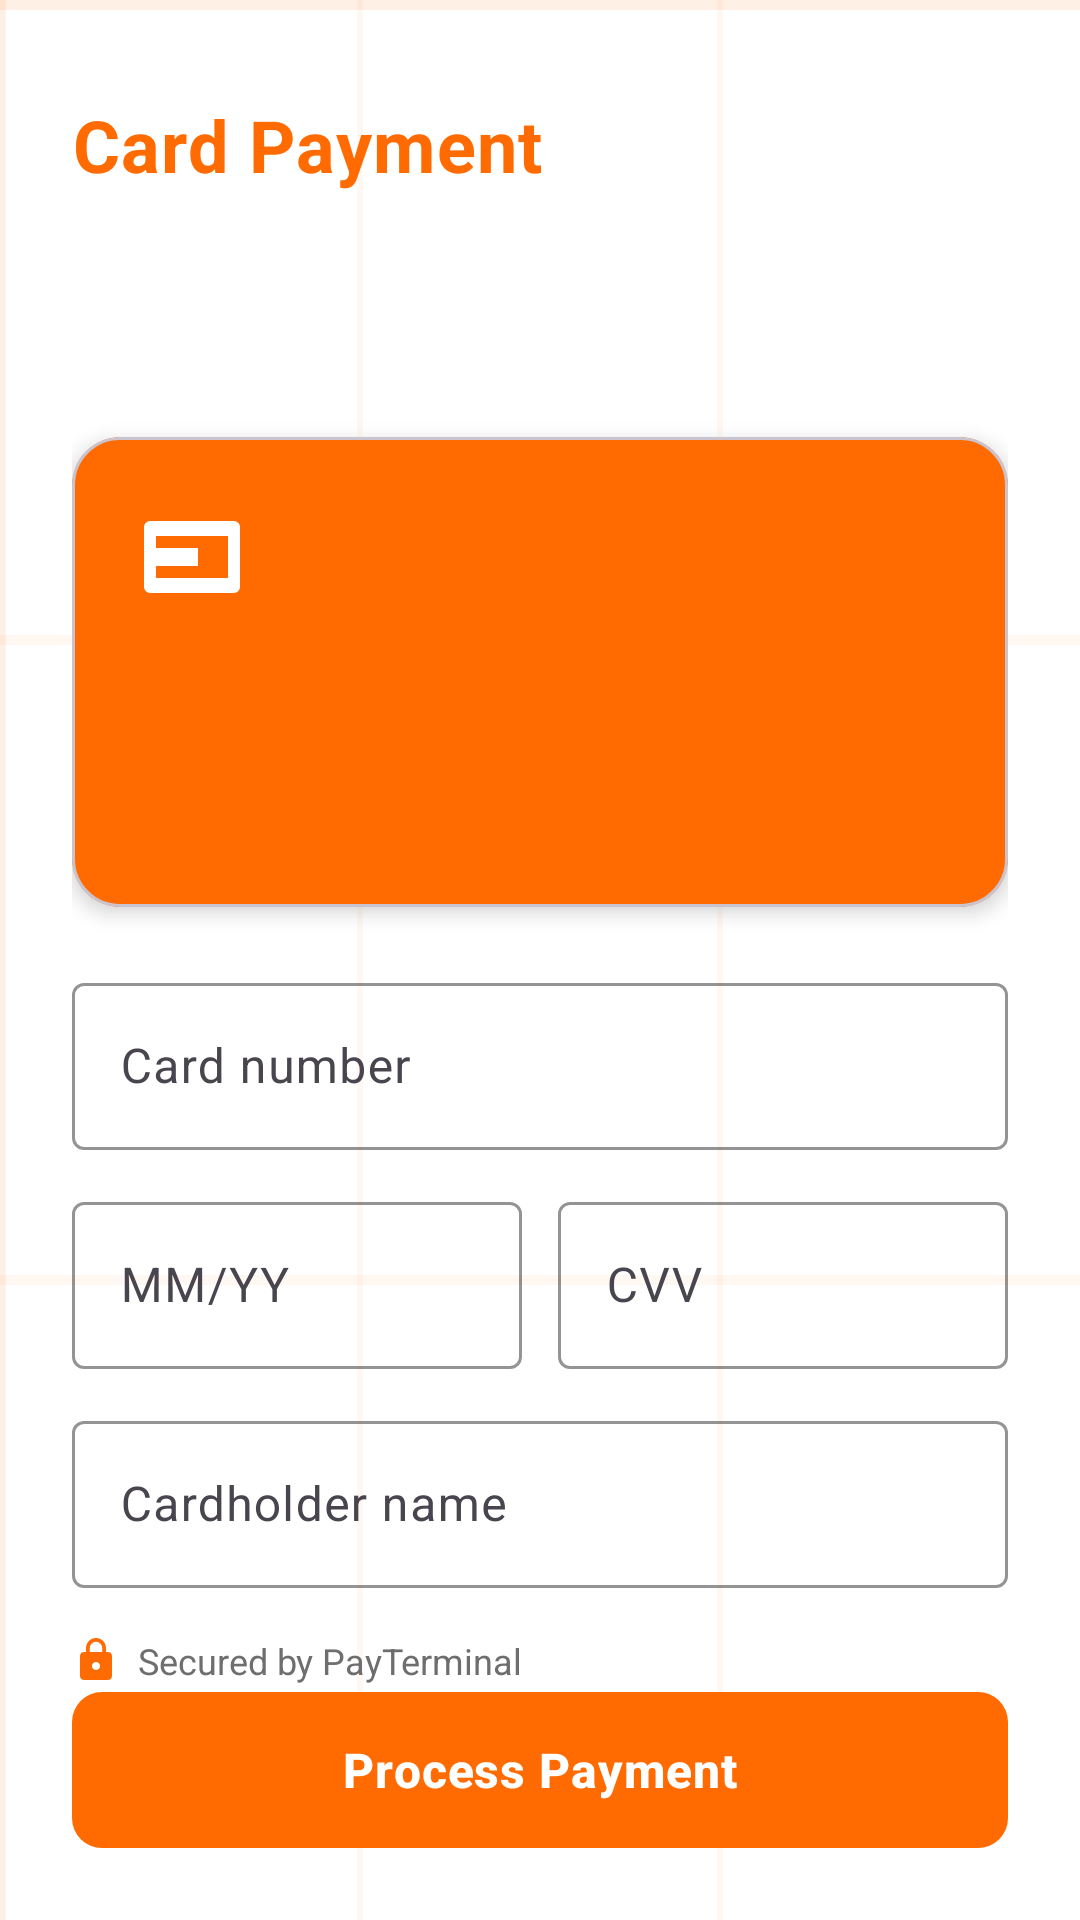

Named icons in this screenshot (1080px×1920px) and their centers, [x,y]:
Card Payment: [192,557]
